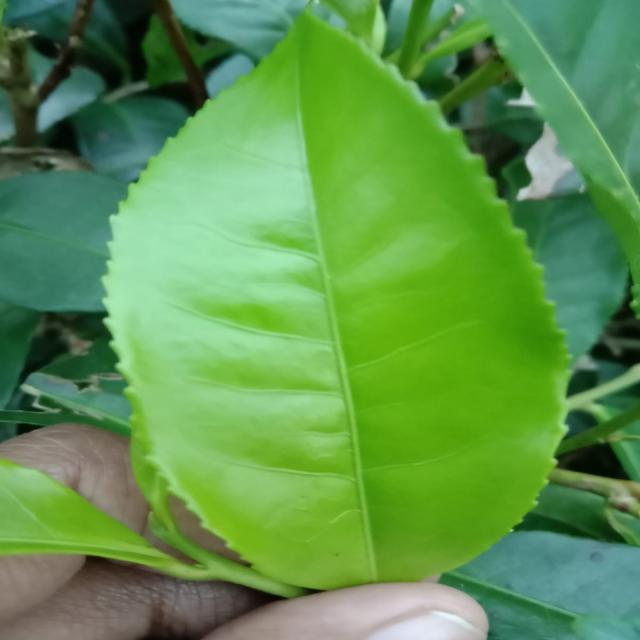Category C(4-7 days): (96, 0, 591, 628)
